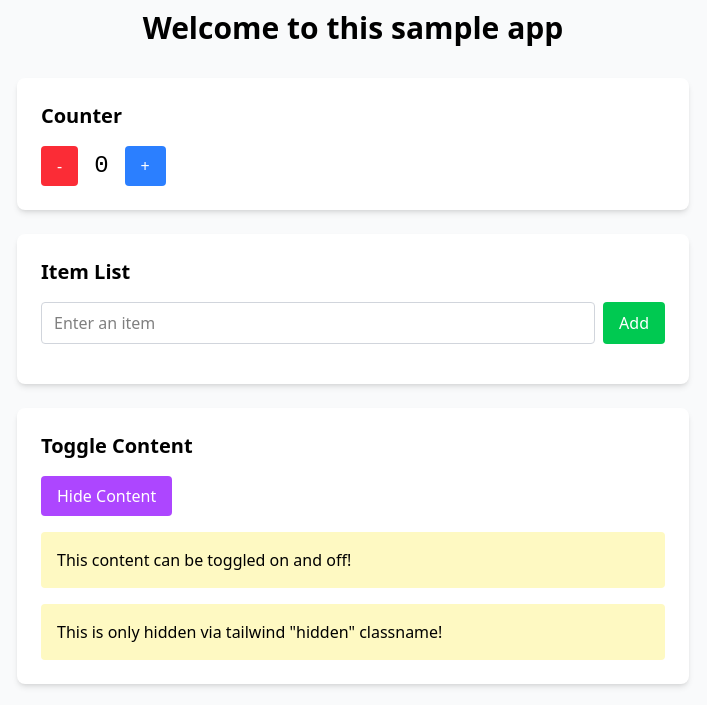
Test: Main app page (vitest) › toggle hidden content › can toggle content visibility
Expected: the element with test id "toggle-content-1" is shown, 41,532 -> 665,588
Expected: the element with test id "toggle-content-2" is shown, 41,604 -> 665,660
// Click to hide
Click the button with test id "toggle-btn": (107, 496) 41,476 -> 172,516
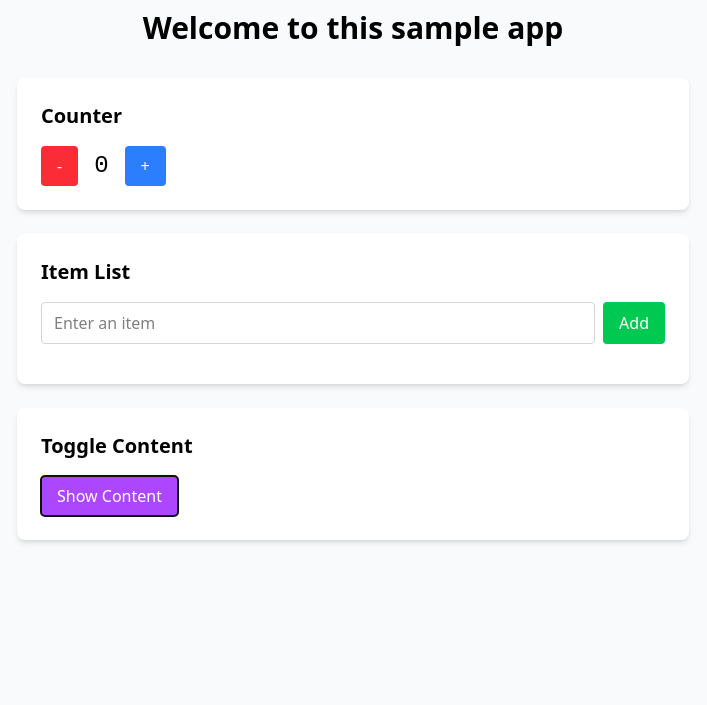
Now the button with test id "toggle-btn" reads "Show Content"
Now the element with test id "toggle-content-1" is gone
// Click to show again
Click the button with test id "toggle-btn": (109, 496) 41,476 -> 178,516
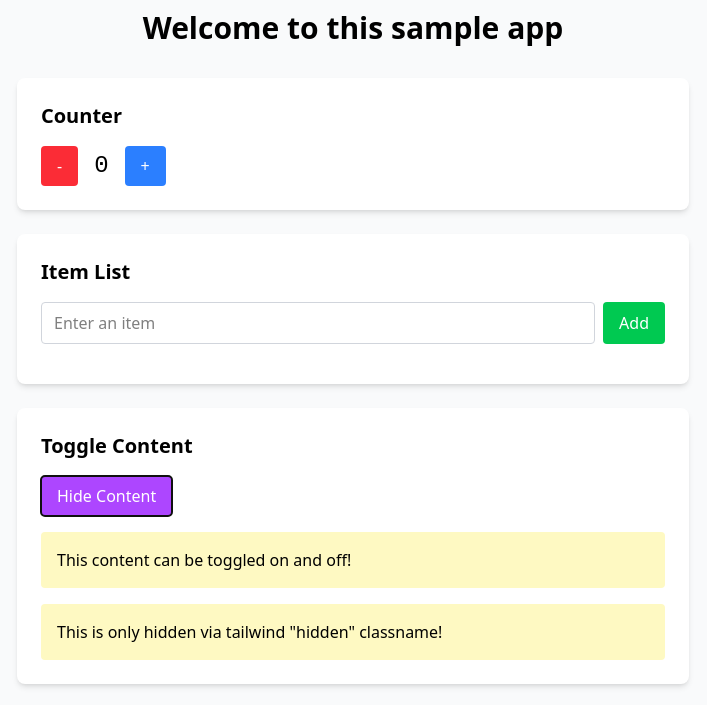
Now the button with test id "toggle-btn" reads "Hide Content", box 41,476 -> 172,516
Now the element with test id "toggle-content-1" is shown, box 41,532 -> 665,588
